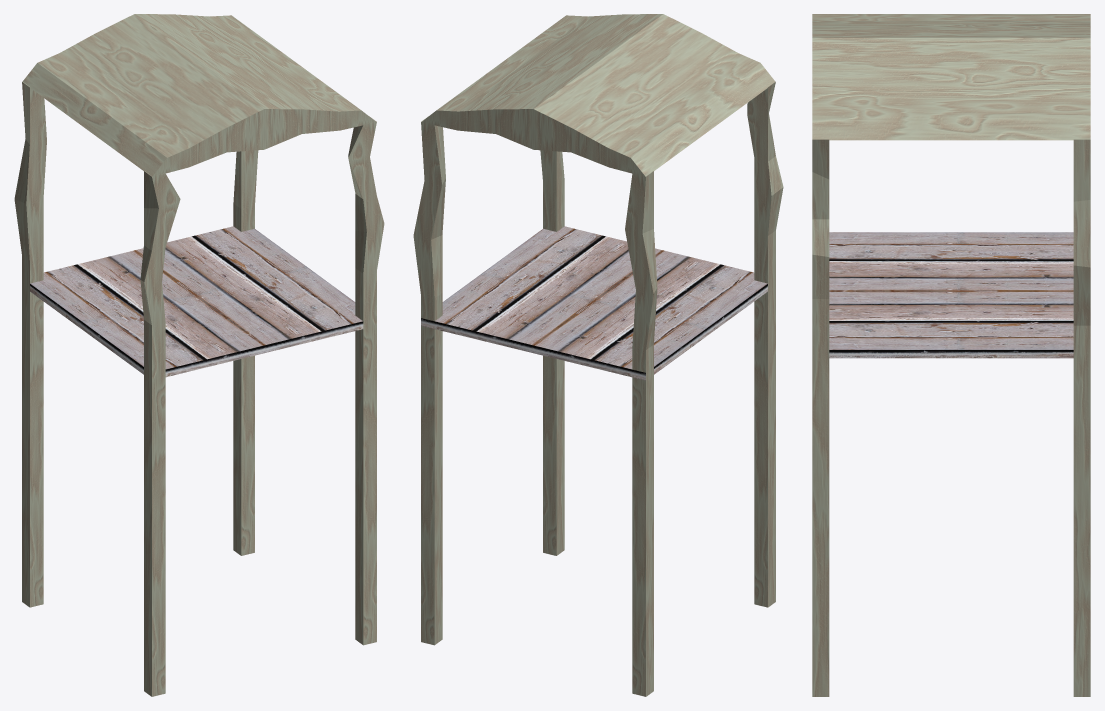
3 views of the same model, side by side, from view 1: azimuth 30°, elevation 25°; view 2: azimuth 150°, elevation 25°; view 3: azimuth 270°, elevation 25° (orthographic). The views are drawn at different scales.
Parts seen in each view (by area): view 1: brid007_woodsemwhite_0, brid007_woodboard_0; view 2: brid007_woodsemwhite_0, brid007_woodboard_0; view 3: brid007_woodsemwhite_0, brid007_woodboard_0.
Boxes of the visible parts, x1,y1,x2,y2 form: brid007_woodsemwhite_0: [14, 14, 384, 696]; brid007_woodboard_0: [30, 226, 363, 377]; brid007_woodsemwhite_0: [413, 14, 783, 696]; brid007_woodboard_0: [421, 226, 767, 380]; brid007_woodsemwhite_0: [812, 14, 1090, 696]; brid007_woodboard_0: [829, 232, 1073, 358].
Bounding box in the file's own units: 3.2 × 7.14 × 3.
Materials: 2 (2 with a texture image).
